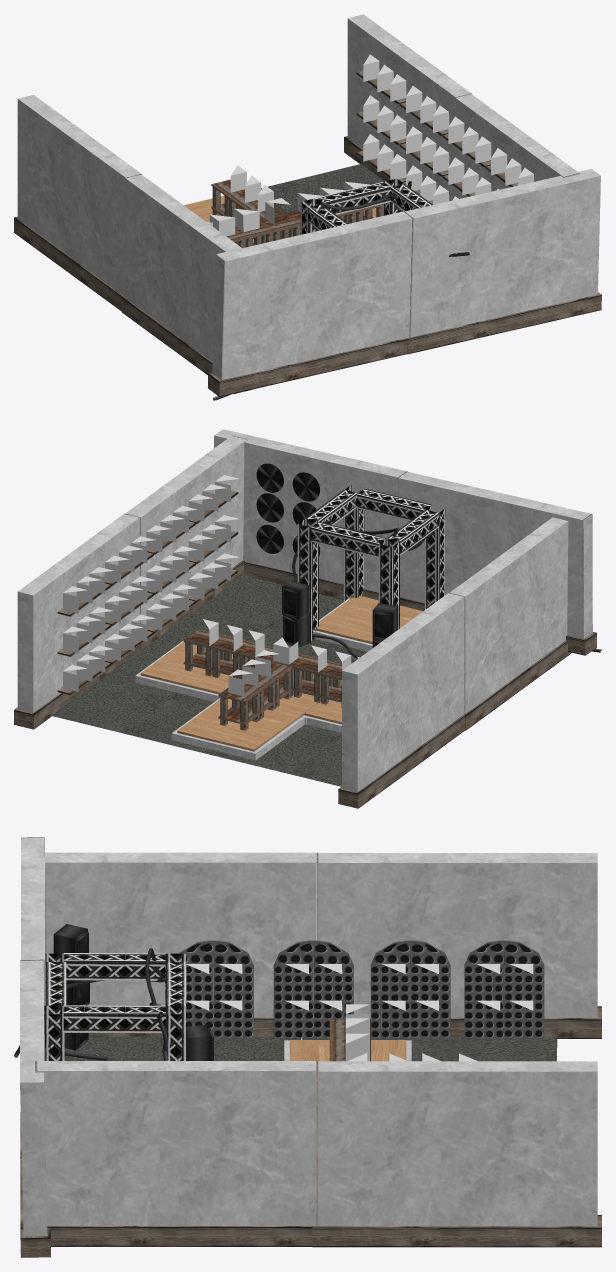
File: music_shop.glb
3 views of the same model, one above another, from view 1: azimuth 30°, elevation 25°; view 2: azimuth 150°, elevation 25°; view 3: azimuth 270°, elevation 25° (orthographic). The views are drawn at different scales.
Parts seen in each view (by area): view 1: world, placement.028; view 2: world, placement.034; view 3: world.
Boxes of the visible parts, x1,y1,x2,y2 form: world: [14, 14, 601, 400]; placement.028: [234, 208, 259, 232]; world: [14, 429, 601, 808]; placement.034: [273, 637, 298, 664]; world: [14, 837, 601, 1257].
Bounding box in the file's own units: 28.02 × 9.75 × 28.47.
1 material, 1 textured.
